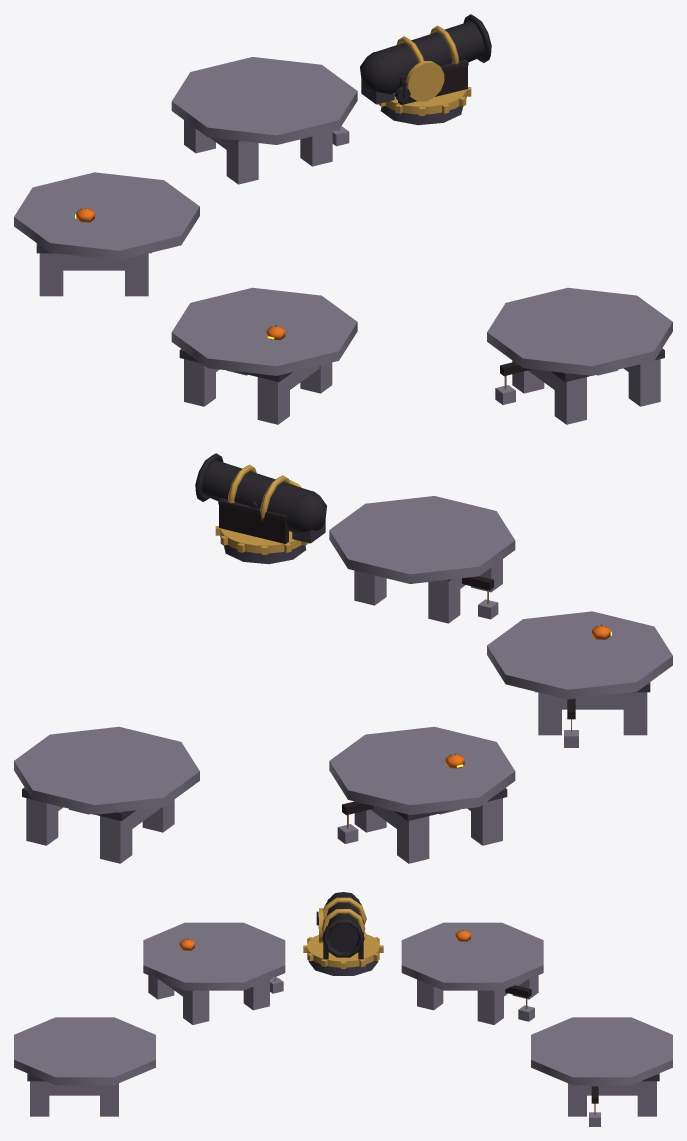
Rendered from base_builder_weapon_3.glb.
The picture shows the model from 3 angles, top to bottom: view 1: azimuth 30°, elevation 25°; view 2: azimuth 150°, elevation 25°; view 3: azimuth 270°, elevation 25°; orthographic projection. The views are drawn at different scales.
Visible parts, largest first — view 1: tower_slot_3_plate, tower_slot_4_plate, tower_slot_2_plate, tower_slot_1_plate, barrel_body, tower_slot_2_pier_1, tower_slot_4_pier_0, tower_slot_4_pier_1, tower_slot_3_pier_3, tower_slot_2_pier_0, gear_elevation, barrel_breech (+10 smaller); view 2: tower_slot_4_plate, tower_slot_3_plate, tower_slot_1_plate, tower_slot_2_plate, barrel_body, carriage_cheek_r, tower_slot_1_pier_0, tower_slot_3_pier_1, tower_slot_3_pier_0, tower_slot_4_pier_2, tower_slot_1_pier_1, barrel (+8 smaller); view 3: tower_slot_3_plate, tower_slot_4_plate, tower_slot_1_plate, tower_slot_2_plate, barrel, barrel_body, weapon_mount_ring, tower_slot_1_pier_2, tower_slot_2_pier_3, tower_slot_3_pier_0, tower_slot_4_pier_1, tower_slot_1_pier_3 (+7 smaller).
Boxes of the visible parts, x1=… form: tower_slot_3_plate: x1=171, y1=57, x2=357, y2=144; tower_slot_4_plate: x1=487, y1=287, x2=672, y2=375; tower_slot_2_plate: x1=171, y1=287, x2=357, y2=375; tower_slot_1_plate: x1=14, y1=172, x2=199, y2=260; barrel_body: x1=375, y1=21, x2=484, y2=93; tower_slot_2_pier_1: x1=257, y1=375, x2=289, y2=424; tower_slot_4_pier_0: x1=554, y1=375, x2=586, y2=424; tower_slot_4_pier_1: x1=628, y1=359, x2=660, y2=406; tower_slot_3_pier_3: x1=226, y1=139, x2=258, y2=184; tower_slot_2_pier_0: x1=184, y1=359, x2=215, y2=406; gear_elevation: x1=405, y1=61, x2=444, y2=101; barrel_breech: x1=360, y1=52, x2=395, y2=94; tower_slot_4_plate: x1=329, y1=496, x2=515, y2=583; tower_slot_3_plate: x1=14, y1=726, x2=199, y2=814; tower_slot_1_plate: x1=329, y1=726, x2=515, y2=814; tower_slot_2_plate: x1=487, y1=611, x2=672, y2=699; barrel_body: x1=202, y1=460, x2=311, y2=532; carriage_cheek_r: x1=219, y1=504, x2=288, y2=543; tower_slot_1_pier_0: x1=397, y1=814, x2=429, y2=863; tower_slot_3_pier_1: x1=100, y1=814, x2=132, y2=863; tower_slot_3_pier_0: x1=26, y1=798, x2=58, y2=845; tower_slot_4_pier_2: x1=428, y1=578, x2=460, y2=623; tower_slot_1_pier_1: x1=471, y1=798, x2=502, y2=845; barrel: x1=195, y1=453, x2=290, y2=520; tower_slot_3_plate: x1=531, y1=1017, x2=672, y2=1085; tower_slot_4_plate: x1=14, y1=1017, x2=155, y2=1085; tower_slot_1_plate: x1=401, y1=922, x2=543, y2=990; tower_slot_2_plate: x1=143, y1=922, x2=285, y2=990; barrel: x1=321, y1=897, x2=366, y2=957; barrel_body: x1=326, y1=893, x2=360, y2=951; weapon_mount_ring: x1=307, y1=933, x2=379, y2=967; tower_slot_1_pier_2: x1=477, y1=990, x2=503, y2=1024; tower_slot_2_pier_3: x1=183, y1=990, x2=209, y2=1024; tower_slot_3_pier_0: x1=637, y1=1081, x2=656, y2=1116; tower_slot_4_pier_1: x1=30, y1=1081, x2=49, y2=1116; tower_slot_1_pier_3: x1=417, y1=979, x2=443, y2=1010.
Bounding box in the file's own units: 1.06 × 0.6306 × 1.89.
